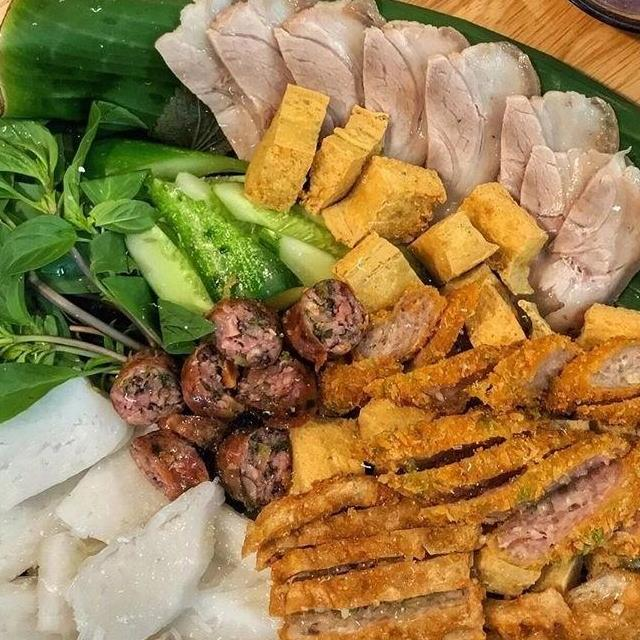bun: (0, 370, 299, 640)
bun dau: (0, 13, 640, 640)
cha com: (353, 311, 640, 600), (237, 462, 497, 640), (474, 549, 640, 640)
dau hu: (322, 174, 554, 356), (226, 74, 342, 220), (320, 146, 456, 244), (300, 104, 394, 218)
doi sun: (105, 276, 382, 530)
thit heo: (410, 31, 544, 232), (508, 140, 640, 336), (142, 0, 289, 168), (488, 84, 624, 256), (352, 13, 476, 180), (197, 0, 333, 143), (268, 0, 393, 149)
